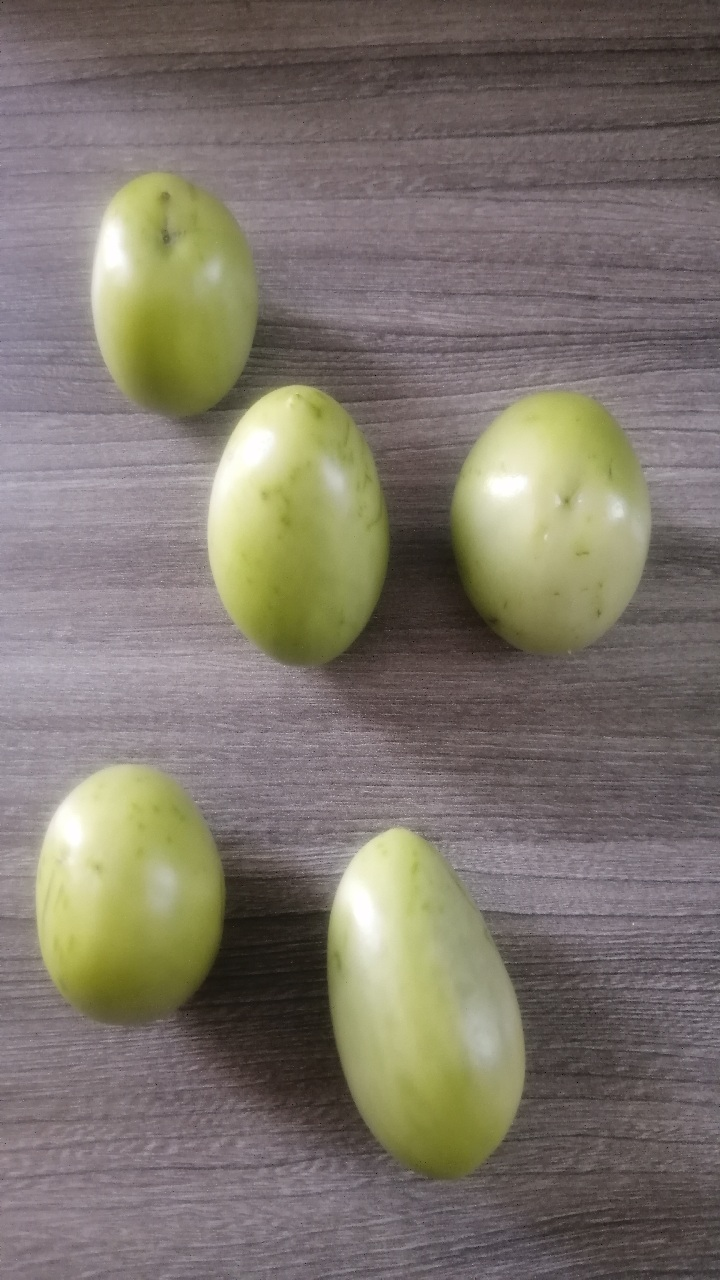tomateVerde: (301, 808, 541, 1195), (169, 355, 409, 692), (438, 362, 663, 695), (17, 752, 232, 1052), (58, 160, 268, 426)
